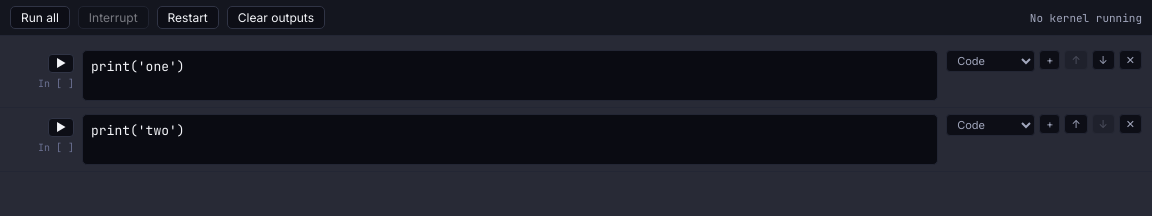
running a cell › renders output as the kernel produces it
This screenshot has width=1152, height=216.
Click the button named "Run cell 1". click: (61, 64)
box: [48, 54, 74, 73]
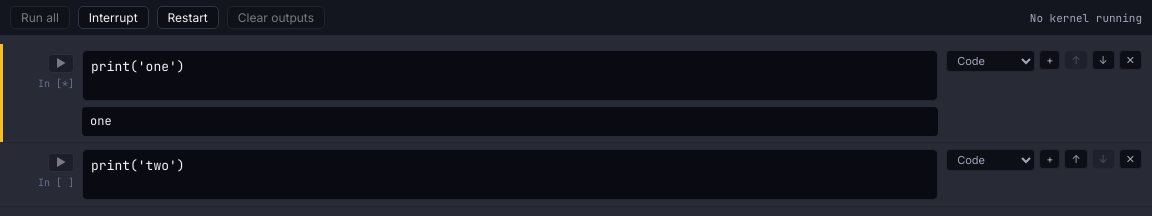
Now the element named "Cell output" reads "one", box [90, 113, 112, 129]
